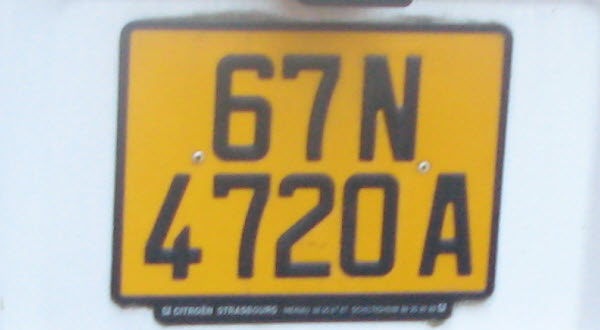license_plate: (112, 20, 514, 323)
